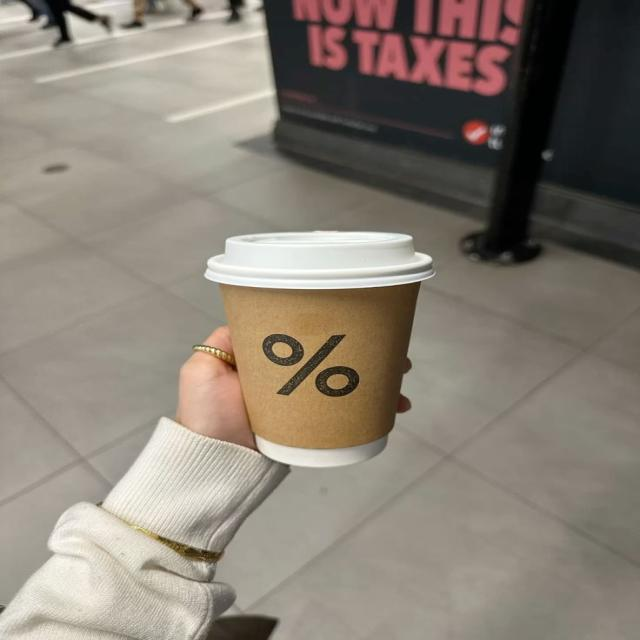paper cup: (204, 230, 438, 468)
